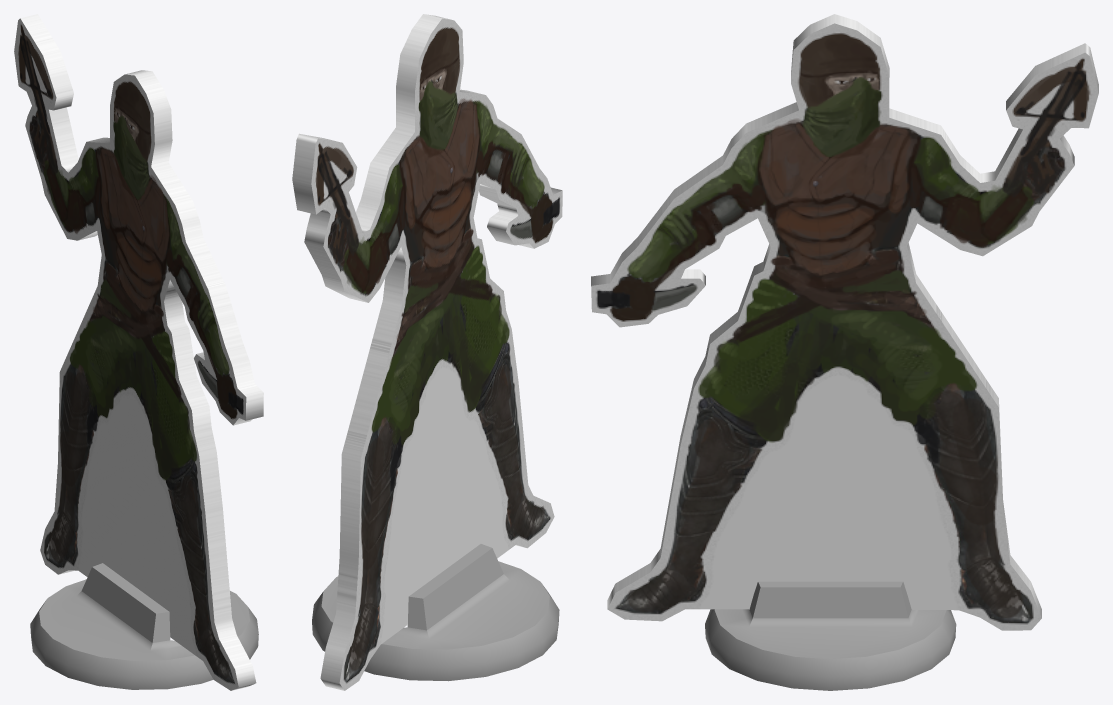
The model's file is hunter.fbx.
The picture shows the model from 3 angles, left to right: view 1: azimuth 30°, elevation 25°; view 2: azimuth 150°, elevation 25°; view 3: azimuth 270°, elevation 25°; orthographic projection. The views are drawn at different scales.
Parts seen in each view (by area): view 1: hunter, pion; view 2: hunter, pion; view 3: hunter, pion.
Part boxes in pixels (x1,y1,x2,y2): hunter: (14,14,263,690); pion: (30,563,258,689); hunter: (292,14,562,690); pion: (312,544,559,681); hunter: (591,14,1098,630); pion: (705,581,956,690).
Bounding box in the file's own units: 1.98 × 5.39 × 4.
Materials: 2 (1 with a texture image).
